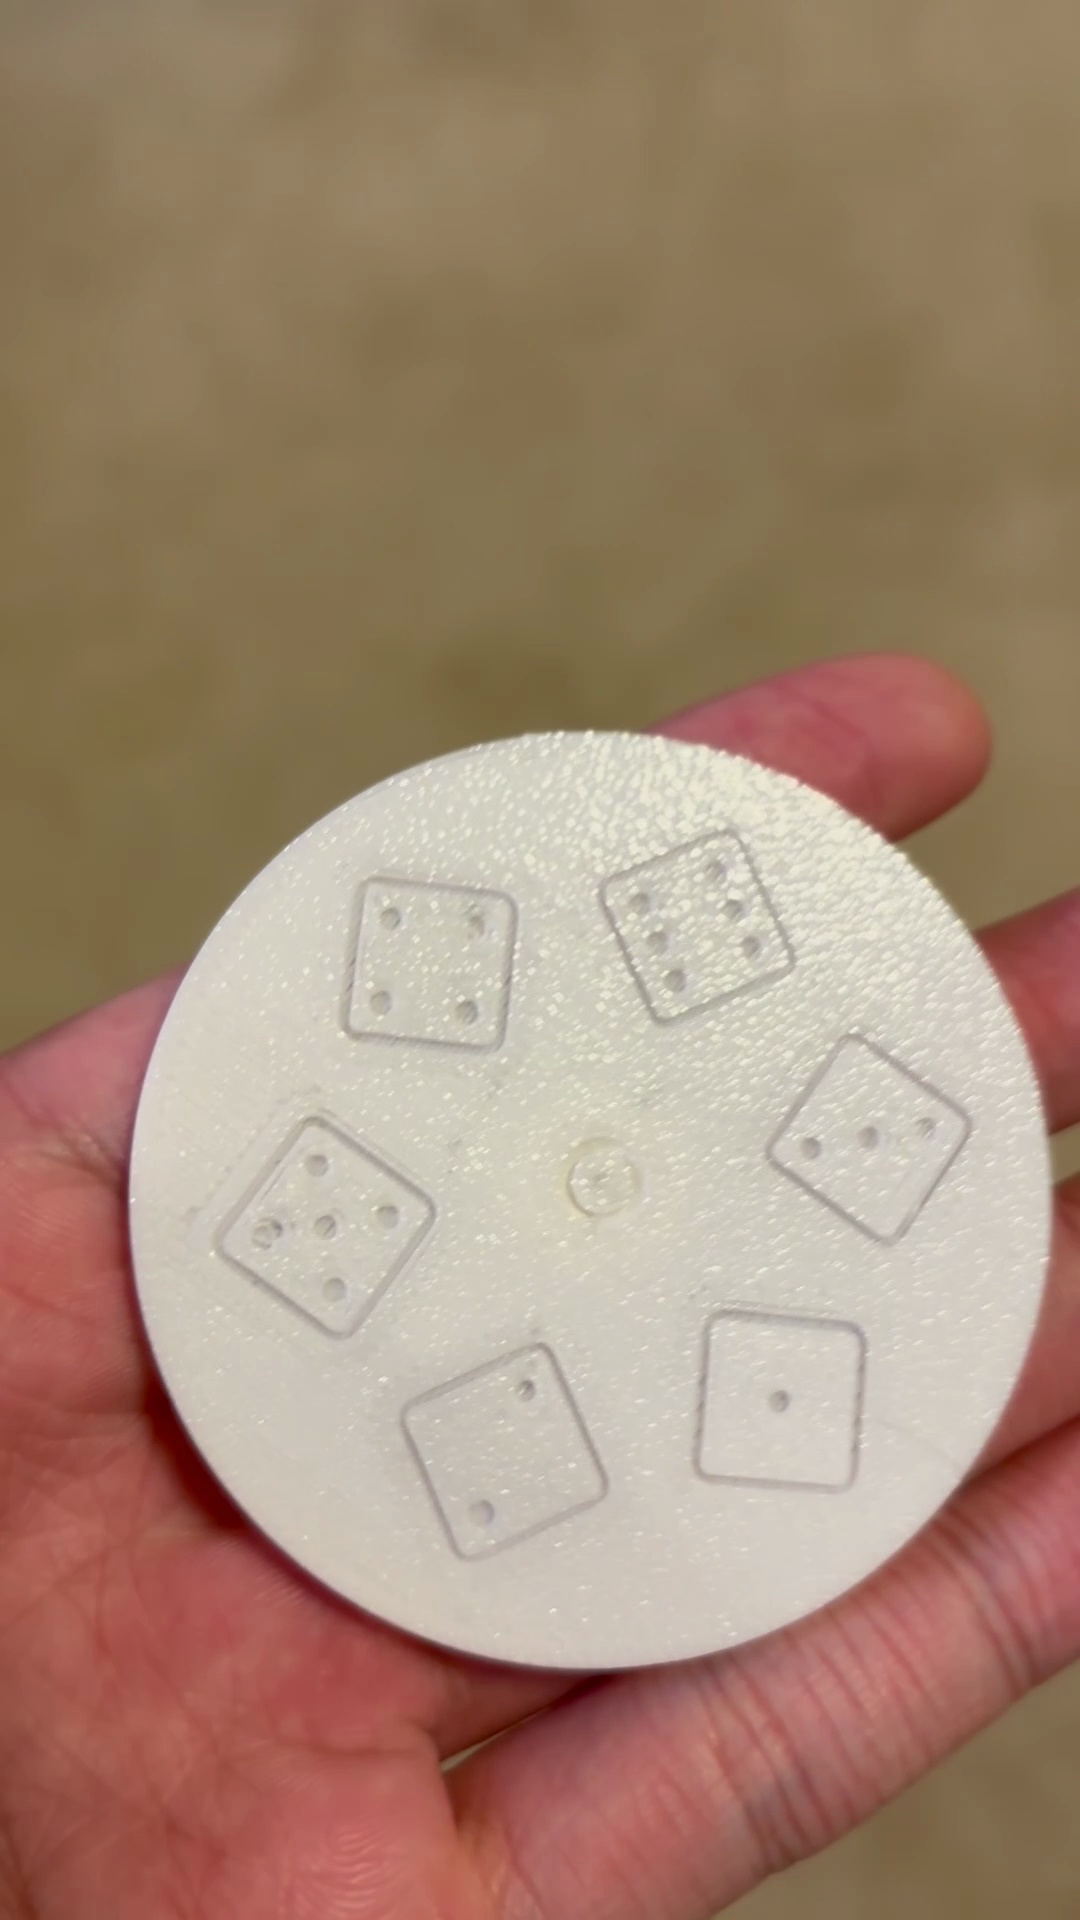Part1: (129, 733, 1050, 1670)
